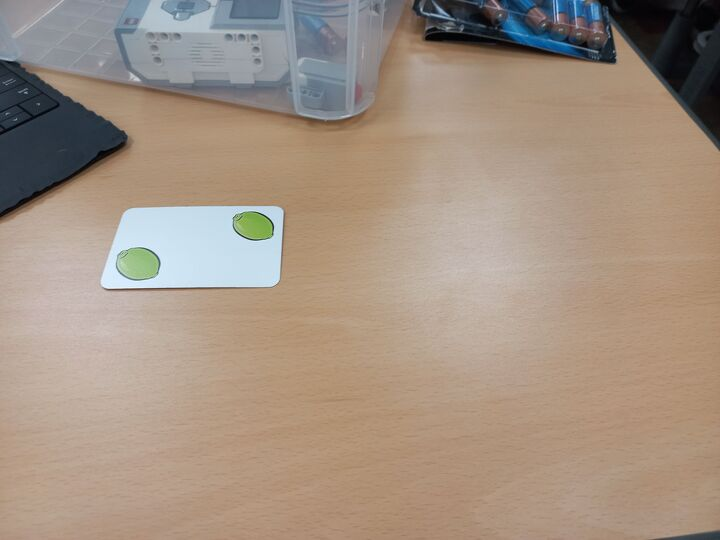lime2: (98, 204, 285, 291)
